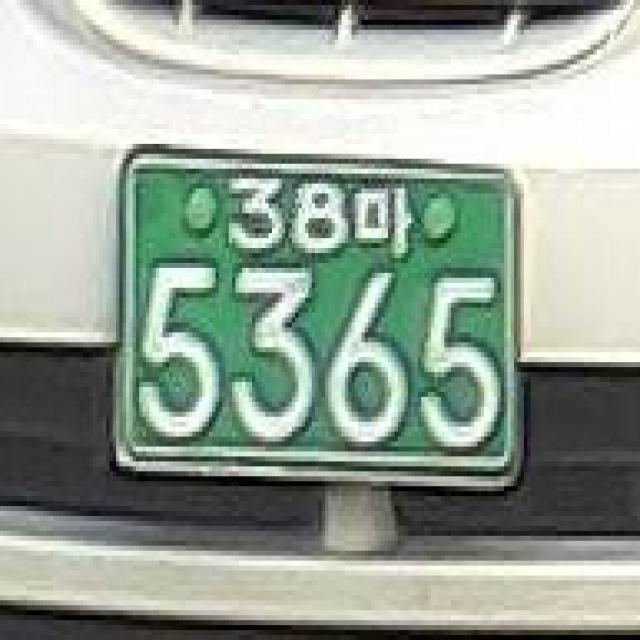illegal_plate: (94, 126, 538, 514)
